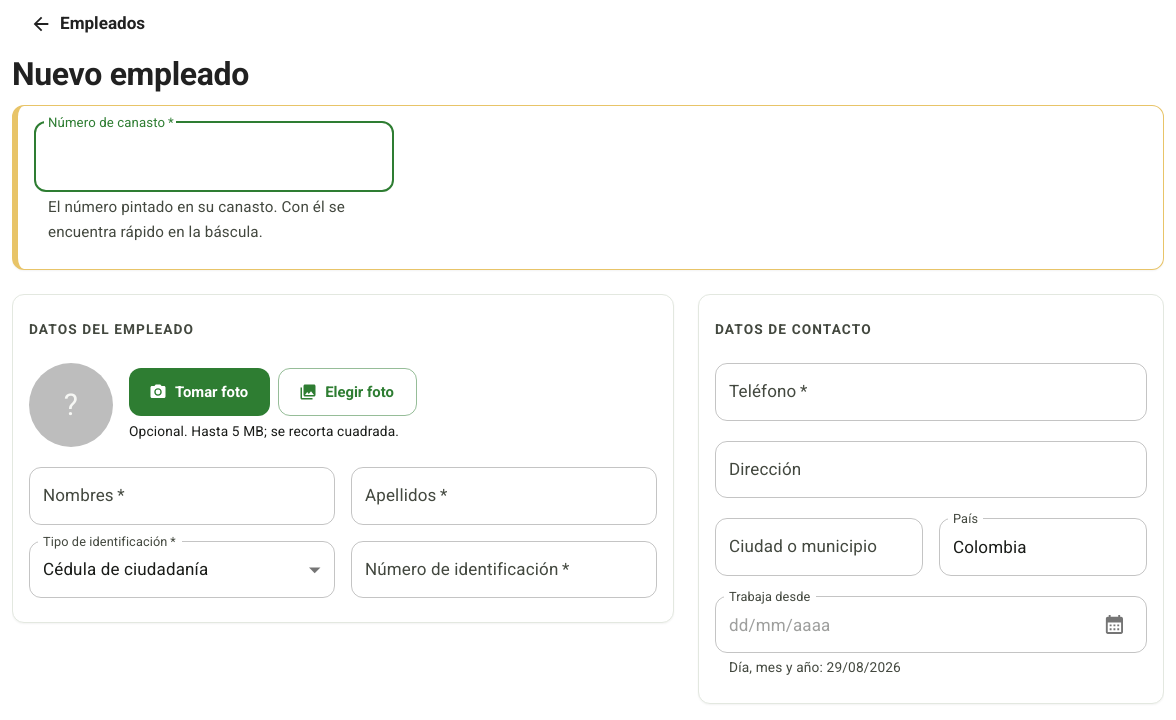
WorkerFormPage › shows the server's message on top when a refusal names no field
In the field labelled "Número de canasto *": (214, 156) [34, 122, 394, 192], type "91"
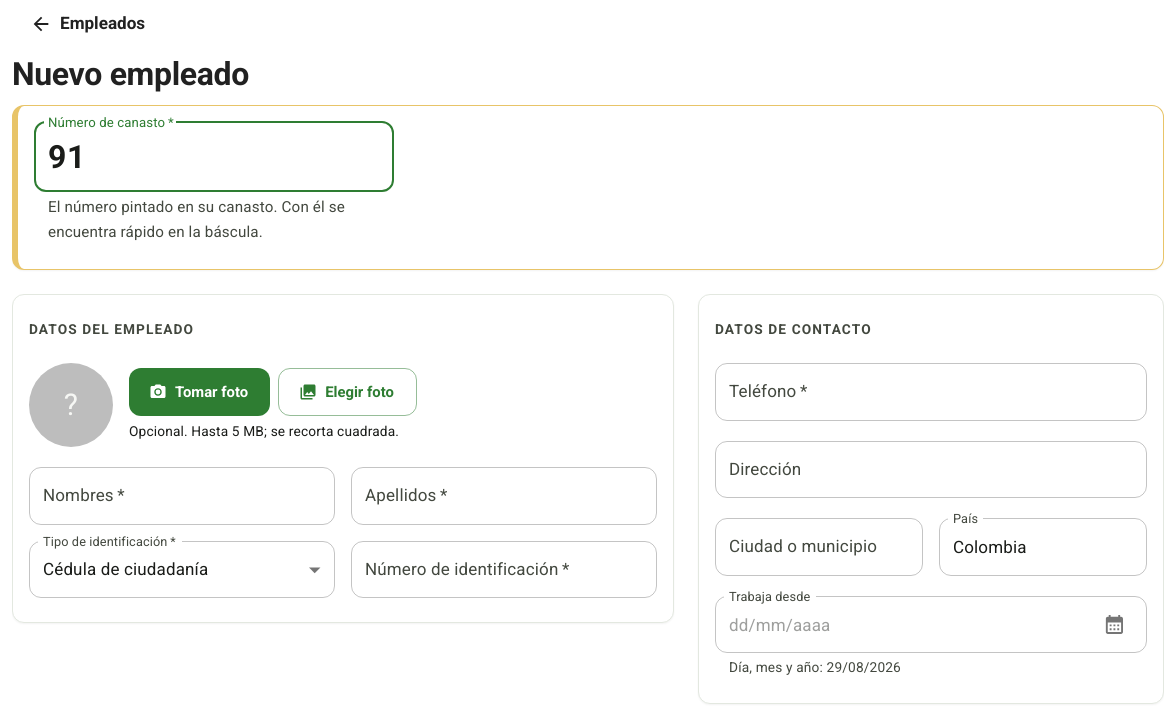
In the field labelled "Nombres *": (182, 496) [29, 468, 335, 525], type "Otra"
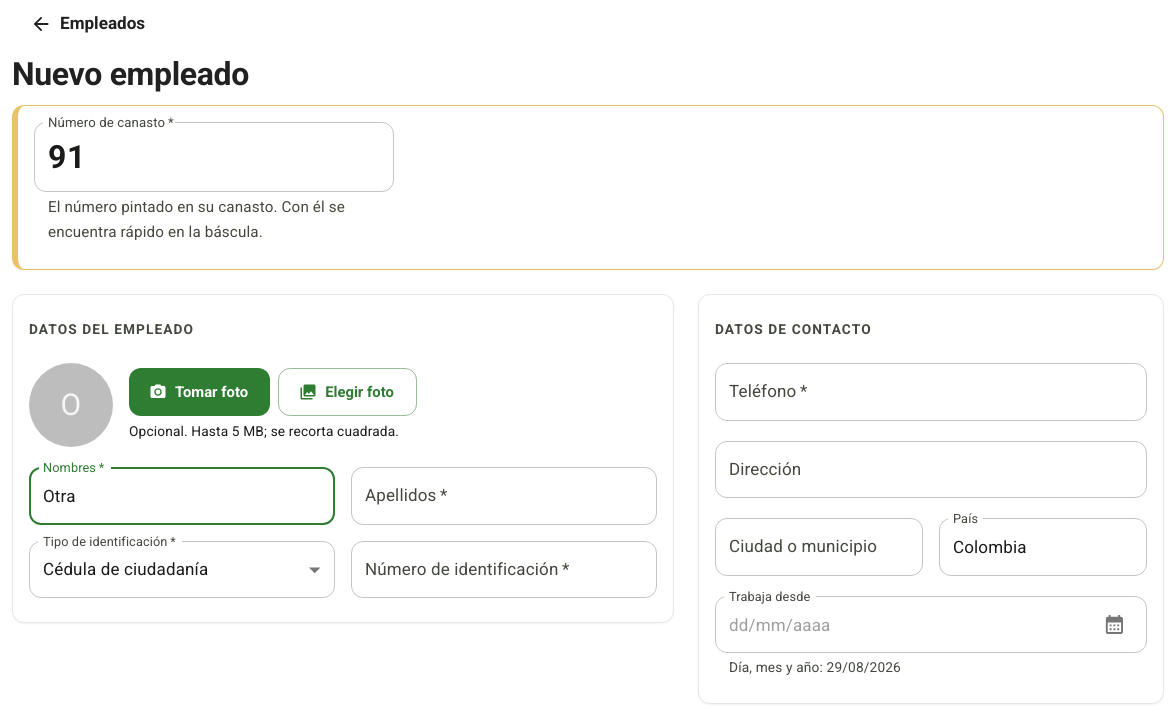
In the field labelled "Apellidos *": (504, 496) [351, 468, 657, 525], type "Persona"
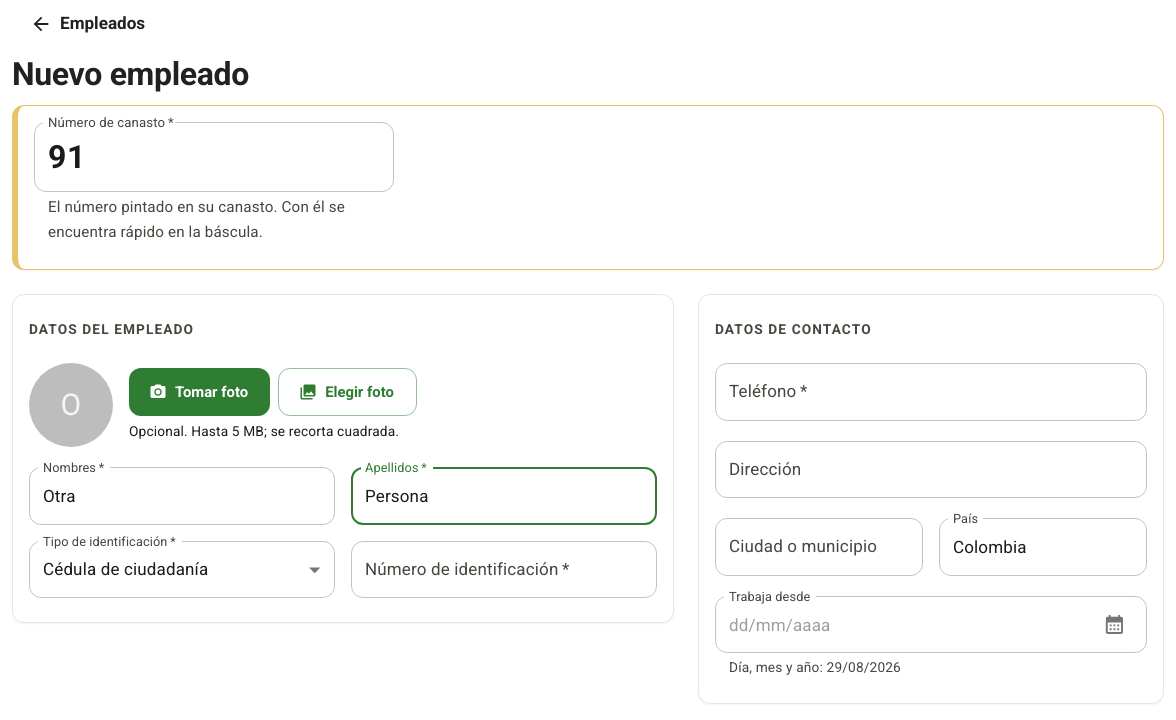
In the field labelled "Número de identificación *": (504, 570) [351, 541, 657, 598], type "99887766"
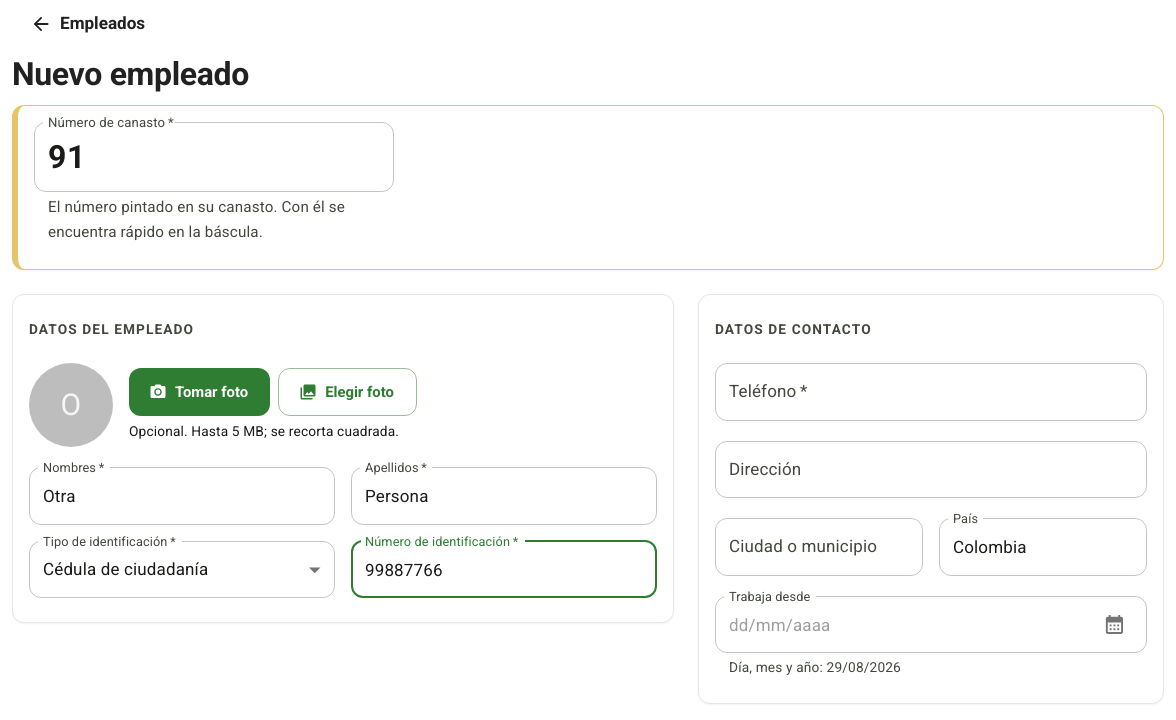
In the field labelled "Teléfono *": (931, 392) [715, 364, 1147, 421], type "3001234567"
(page scrolled)
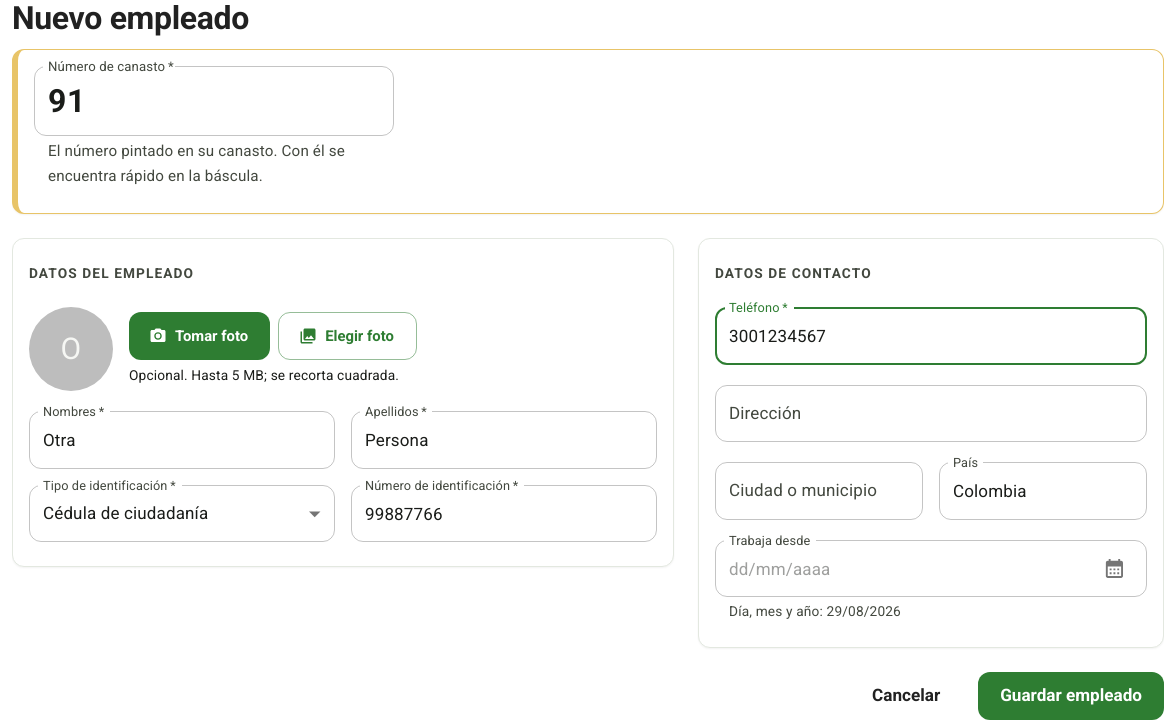
Click the button "Guardar empleado": (1071, 696) [978, 672, 1164, 719]
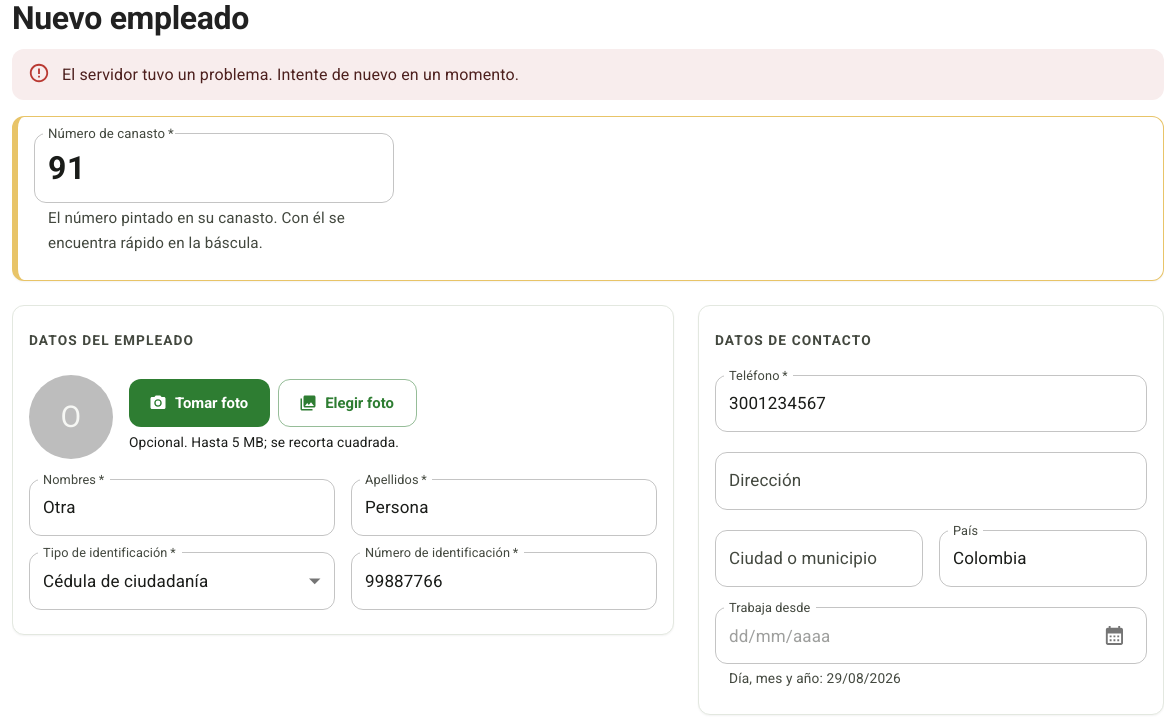
Expected: the message "El servidor tuvo un problema. Intente de nuevo en un momento." is shown, [12, 48, 1164, 100]
